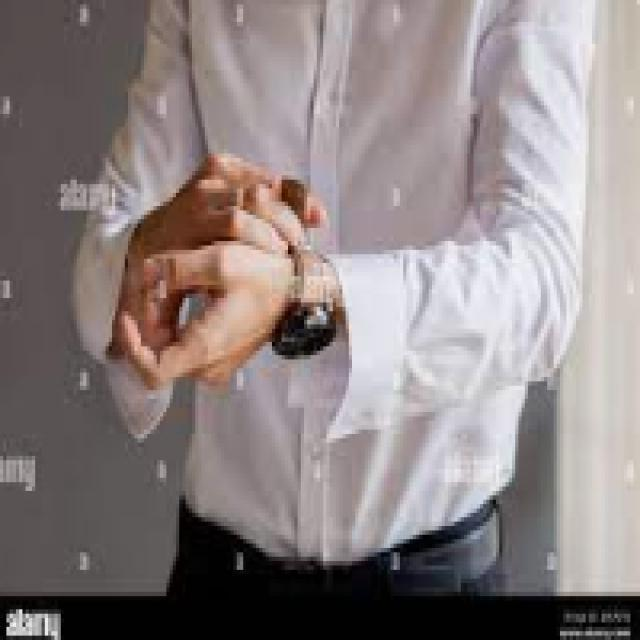Watch: (277, 167, 339, 359)
